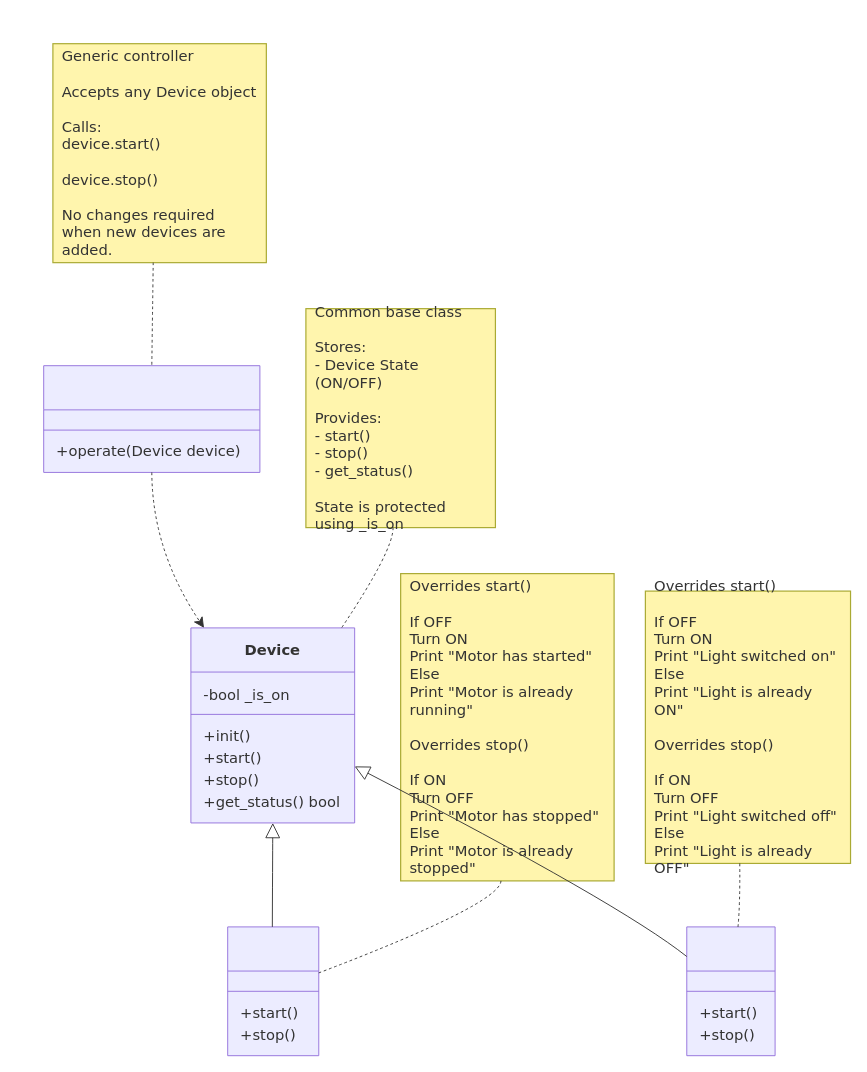
Image size: 867x1072. Some labels were removed from this diagram. The box of each missing label's shape, as (x1, y1, x2, y2) in pixels:
Controller: (43, 365, 260, 472)
Light: (686, 926, 775, 1056)
Motor: (227, 926, 319, 1056)
